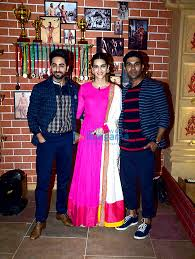Bad: (27, 49, 122, 240), (78, 50, 170, 239)
